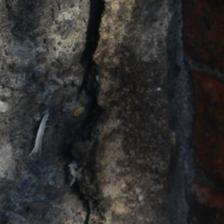Crack: (65, 7, 114, 186)
